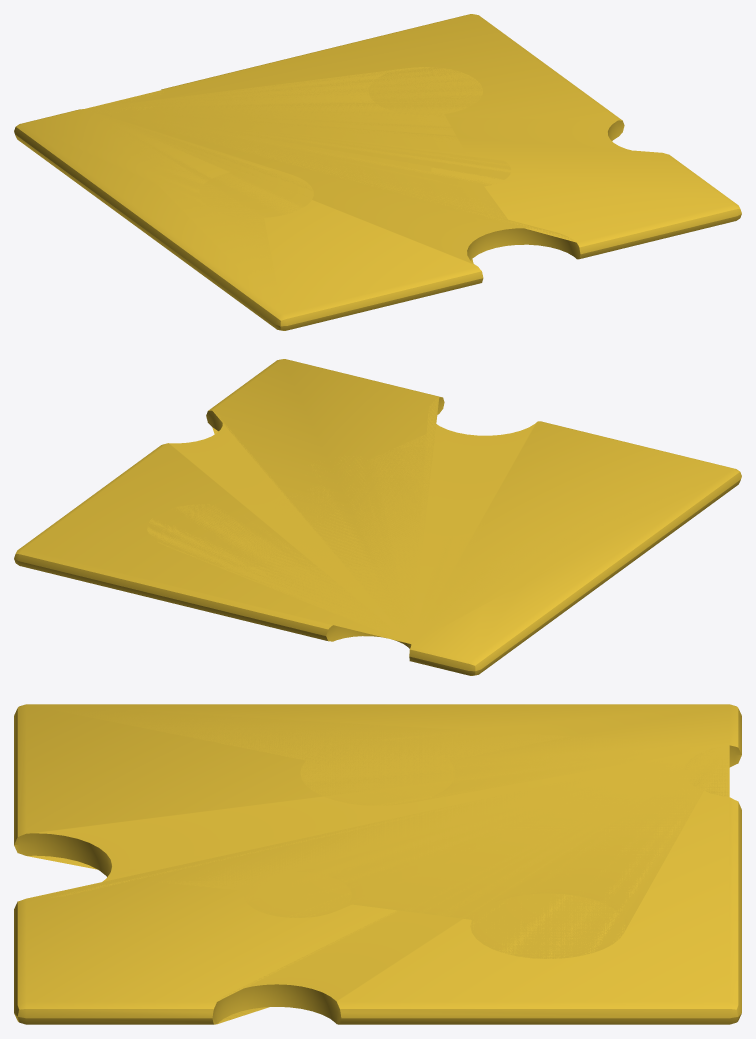
The model's file is FORMAGGIO_non_usare.fbx.
3 views of the same model, one above another, from view 1: azimuth 30°, elevation 25°; view 2: azimuth 150°, elevation 25°; view 3: azimuth 270°, elevation 25° (orthographic). The views are drawn at different scales.
Parts seen in each view (by area): view 1: Cube; view 2: Cube; view 3: Cube.
Part boxes in pixels (bbox=[...]): Cube: bbox=[14, 14, 741, 330]; Cube: bbox=[14, 359, 741, 675]; Cube: bbox=[14, 704, 741, 1024].
Bounding box in the file's own units: 200 × 6.8 × 200.
